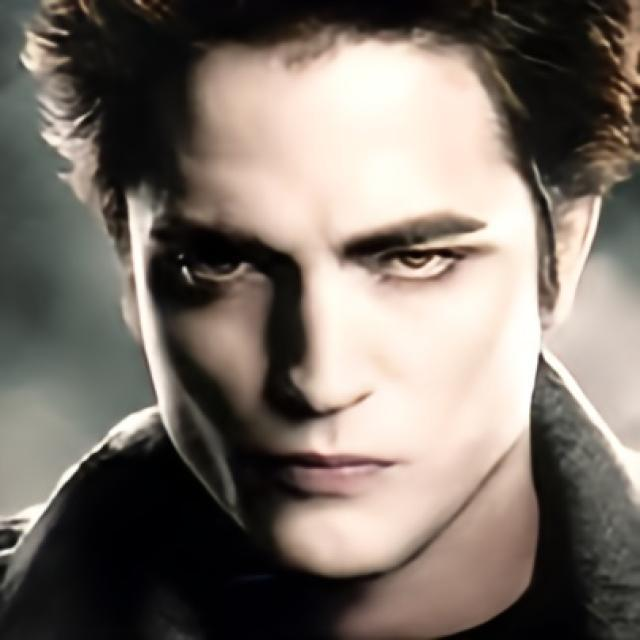anger: (141, 42, 537, 558)
